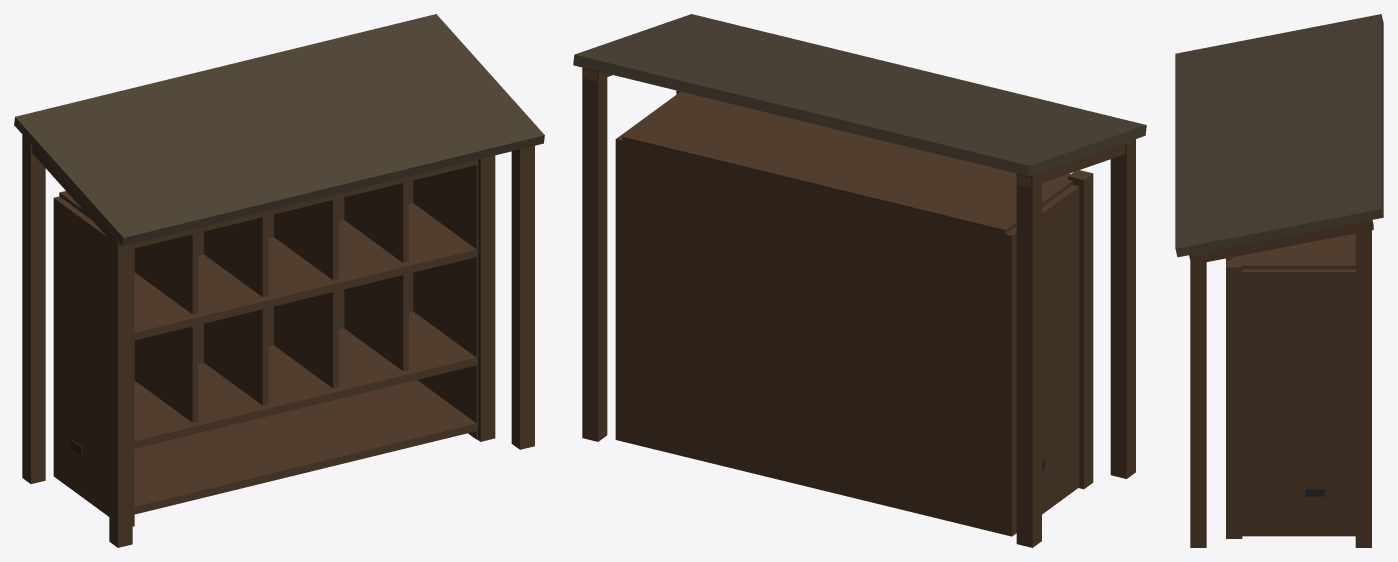
Rendered from trophy_shelf.glb.
3 views of the same model, side by side, from view 1: azimuth 30°, elevation 25°; view 2: azimuth 150°, elevation 25°; view 3: azimuth 270°, elevation 25° (orthographic). The views are drawn at different scales.
Visible parts, largest first — view 1: Shelf, Awning; view 2: Shelf, Awning; view 3: Awning, Shelf.
Boxes of the visible parts, bbox=[...] form: Shelf: bbox=[53, 155, 495, 526]; Awning: bbox=[14, 14, 544, 547]; Shelf: bbox=[615, 91, 1093, 536]; Awning: bbox=[573, 14, 1146, 547]; Awning: bbox=[1175, 14, 1383, 547]; Shelf: bbox=[1226, 233, 1355, 538].
Bounding box in the file's own units: 2.85 × 2.32 × 1.28.
